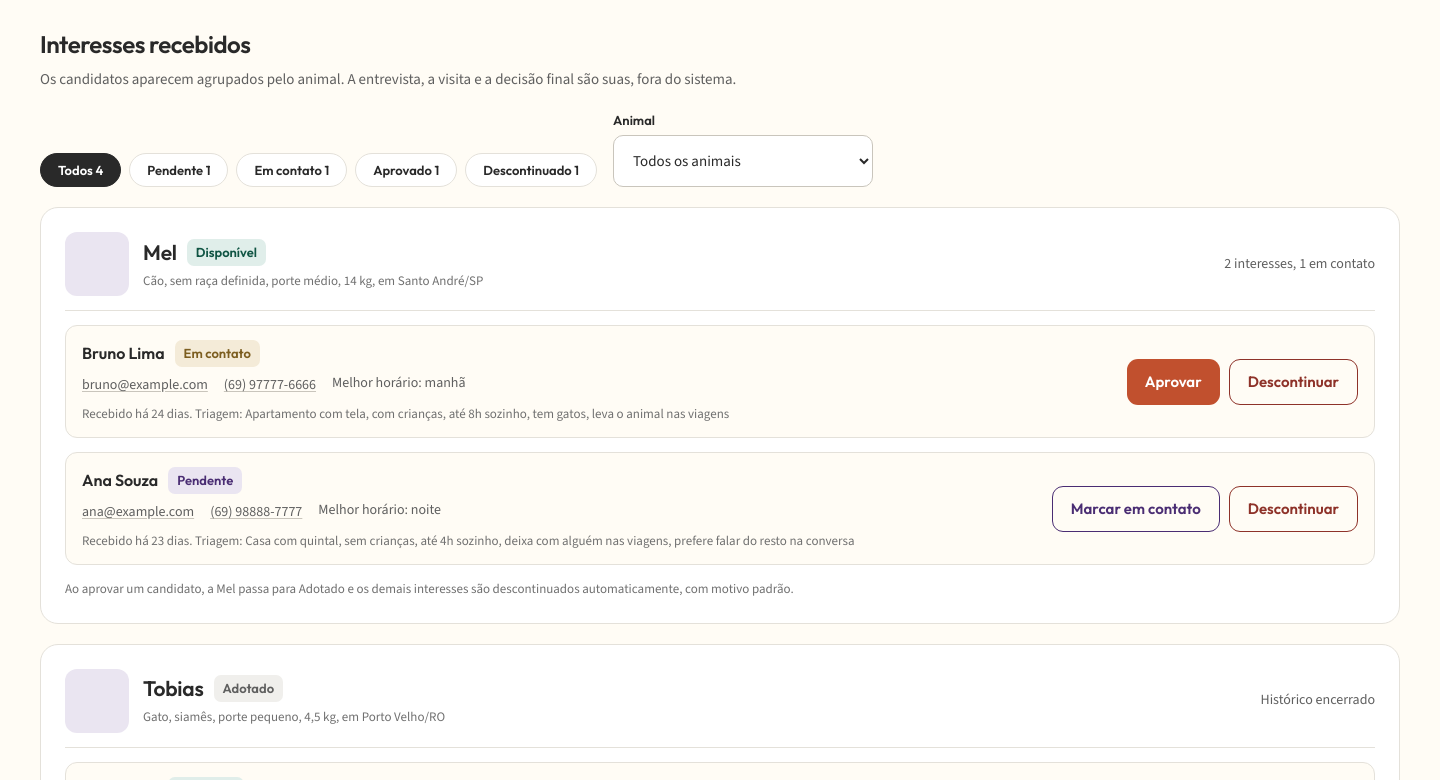
filtros › o filtro de status conta e mostra só os escolhidos
The width and height of the screenshot is (1440, 780).
Check: the heading "Ana Souza" is shown, box x1=82 y1=470 x2=158 y2=492
Click the button "Pendente 1" at (179, 170), box x1=129 y1=152 x2=228 y2=187
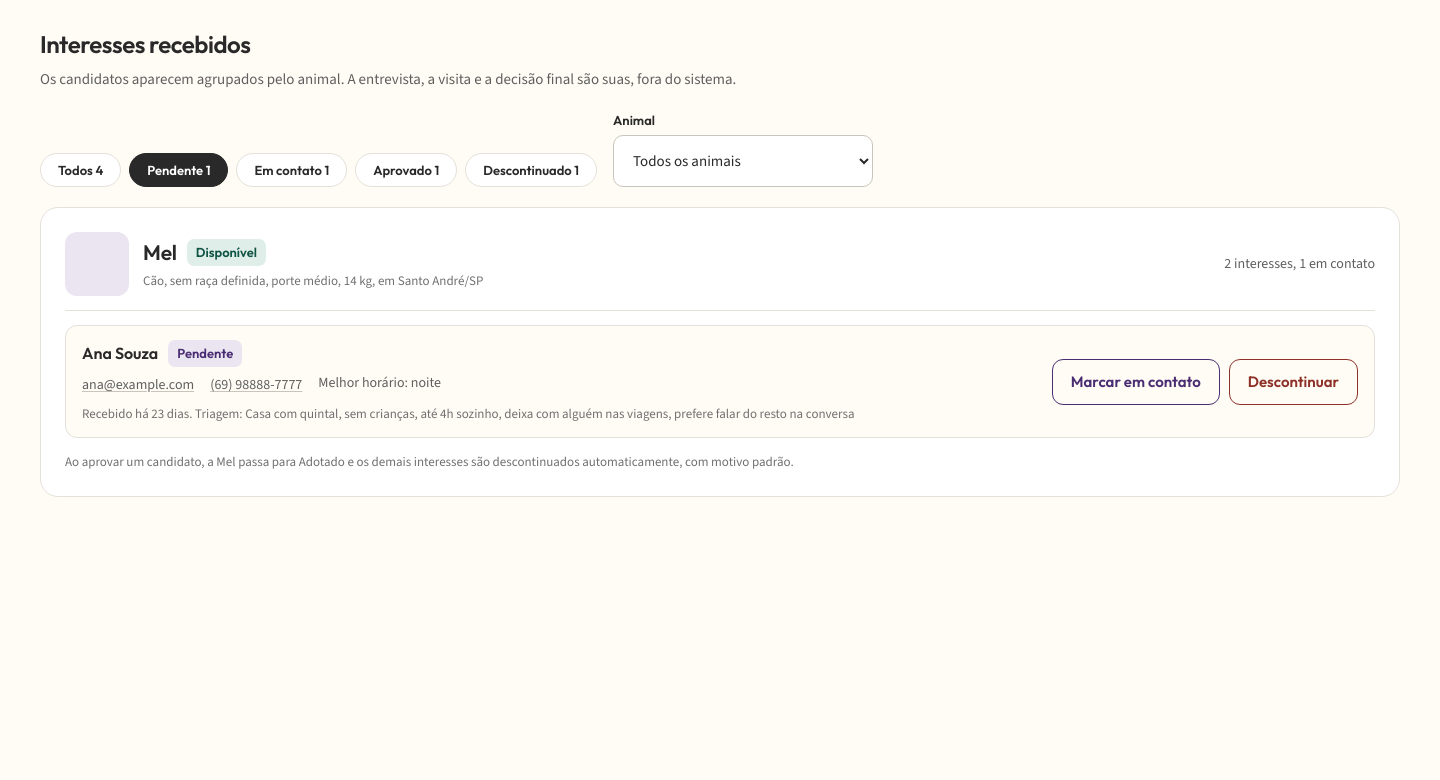
Check: the heading "Ana Souza" is shown, box x1=82 y1=343 x2=158 y2=365
Check: the heading "Bruno Lima" is gone
Check: the link "Tobias" is gone
